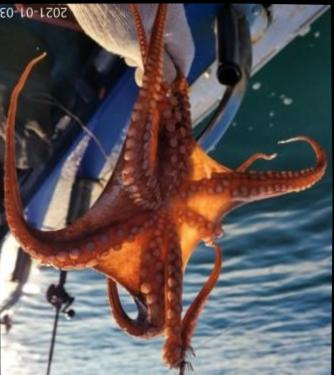Cephalopod: (4, 3, 328, 375)
